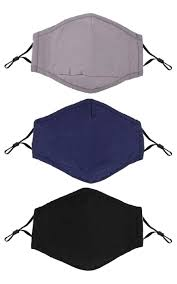FaceMask: (33, 99, 144, 184), (31, 188, 143, 272), (31, 13, 143, 93)
